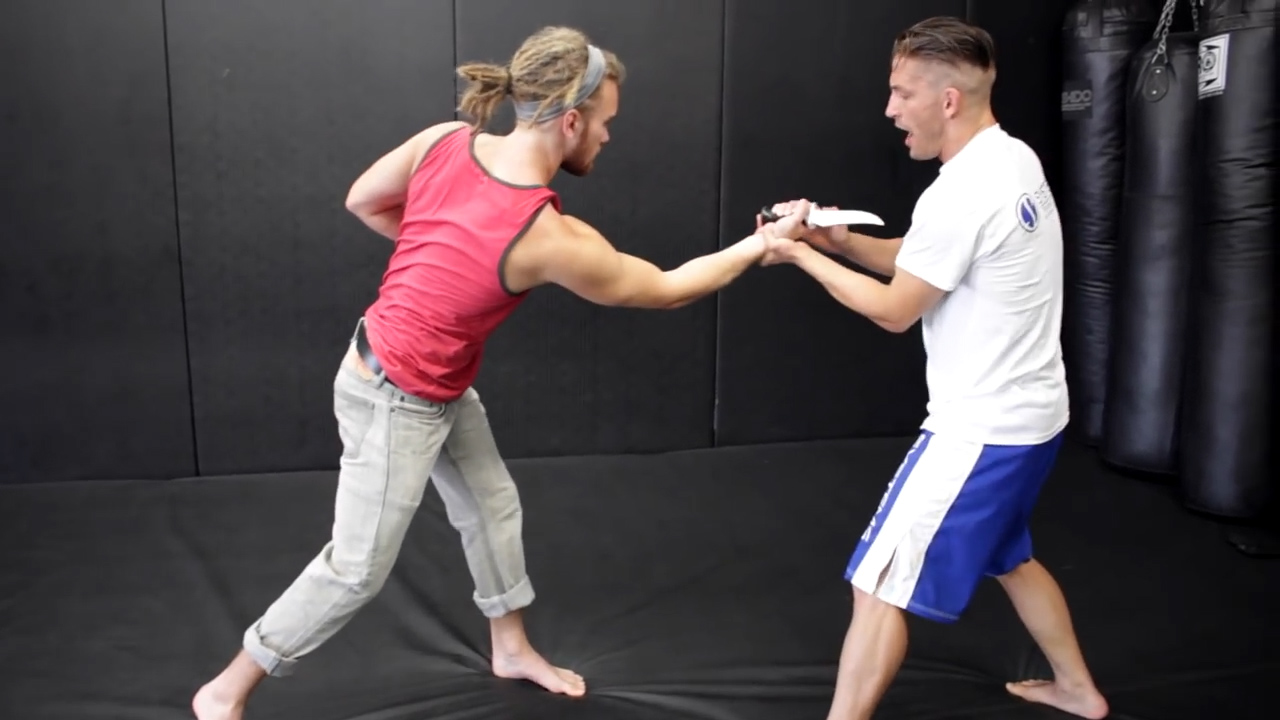knife: (749, 191, 895, 236)
